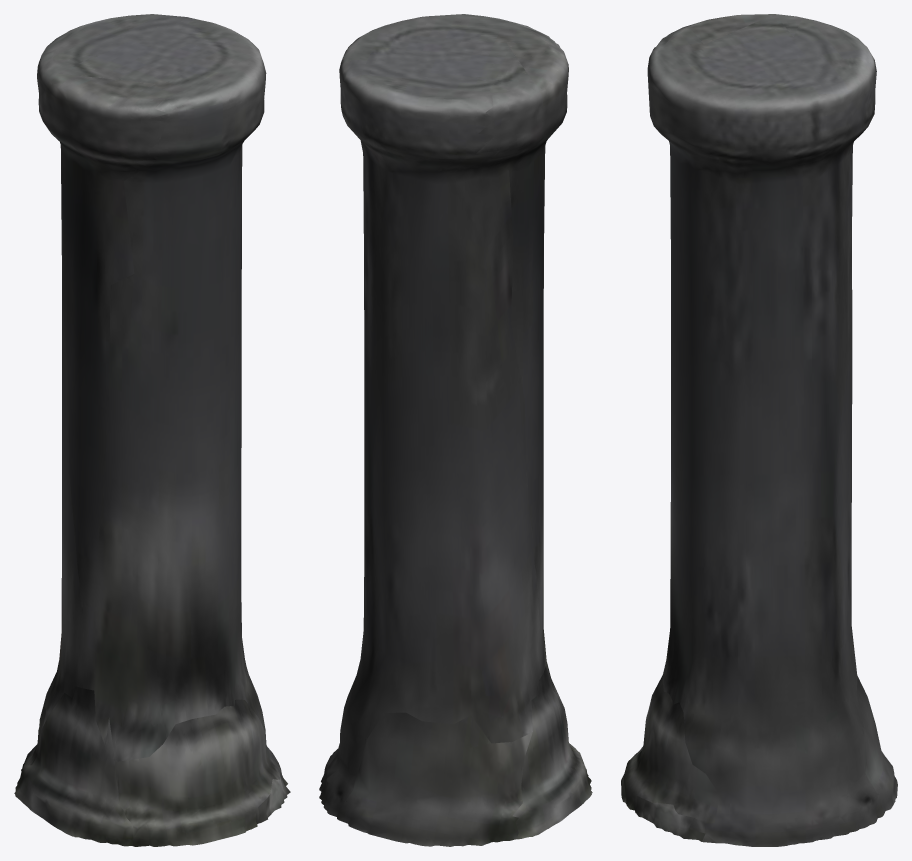
File: trench-column-2.glb
3 renders of one model, left to right at view 1: azimuth 30°, elevation 25°; view 2: azimuth 150°, elevation 25°; view 3: azimuth 270°, elevation 25°, orthographic.
Parts seen in each view (by area): view 1: Trench_Column_Round_2; view 2: Trench_Column_Round_2; view 3: Trench_Column_Round_2.
Boxes of the visible parts, x1,y1,x2,y2 form: Trench_Column_Round_2: [14, 14, 290, 846]; Trench_Column_Round_2: [319, 14, 592, 846]; Trench_Column_Round_2: [621, 14, 897, 846].
Bounding box in the file's own units: 1.29 × 3.9 × 1.33.
Materials: 1 (1 with a texture image).
